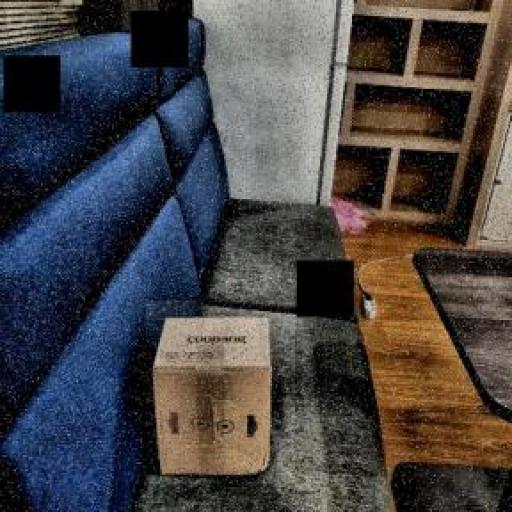box: (146, 302, 295, 484)
